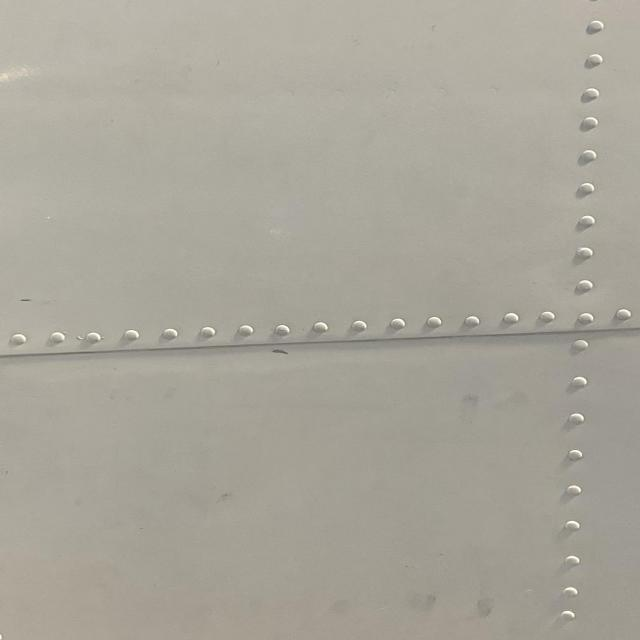Paint-off: (269, 343, 294, 357)
